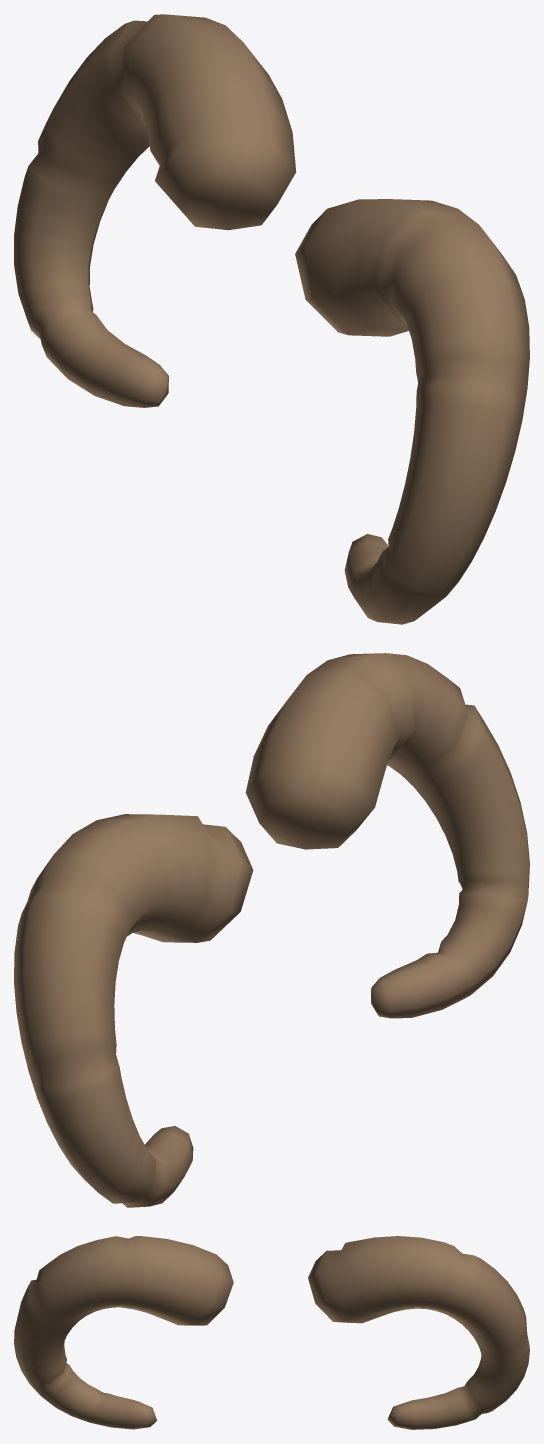
The model's file is Cornes.fbx.
3 views of the same model, one above another, from view 1: azimuth 30°, elevation 25°; view 2: azimuth 150°, elevation 25°; view 3: azimuth 270°, elevation 25° (orthographic). The views are drawn at different scales.
Parts seen in each view (by area): view 1: Cornes; view 2: Cornes; view 3: Cornes.
Boxes of the visible parts, x1,y1,x2,y2 form: Cornes: [14, 14, 529, 624]; Cornes: [14, 653, 529, 1207]; Cornes: [14, 1236, 529, 1429].
Bounding box in the file's own units: 16.87 × 31.52 × 70.13.
